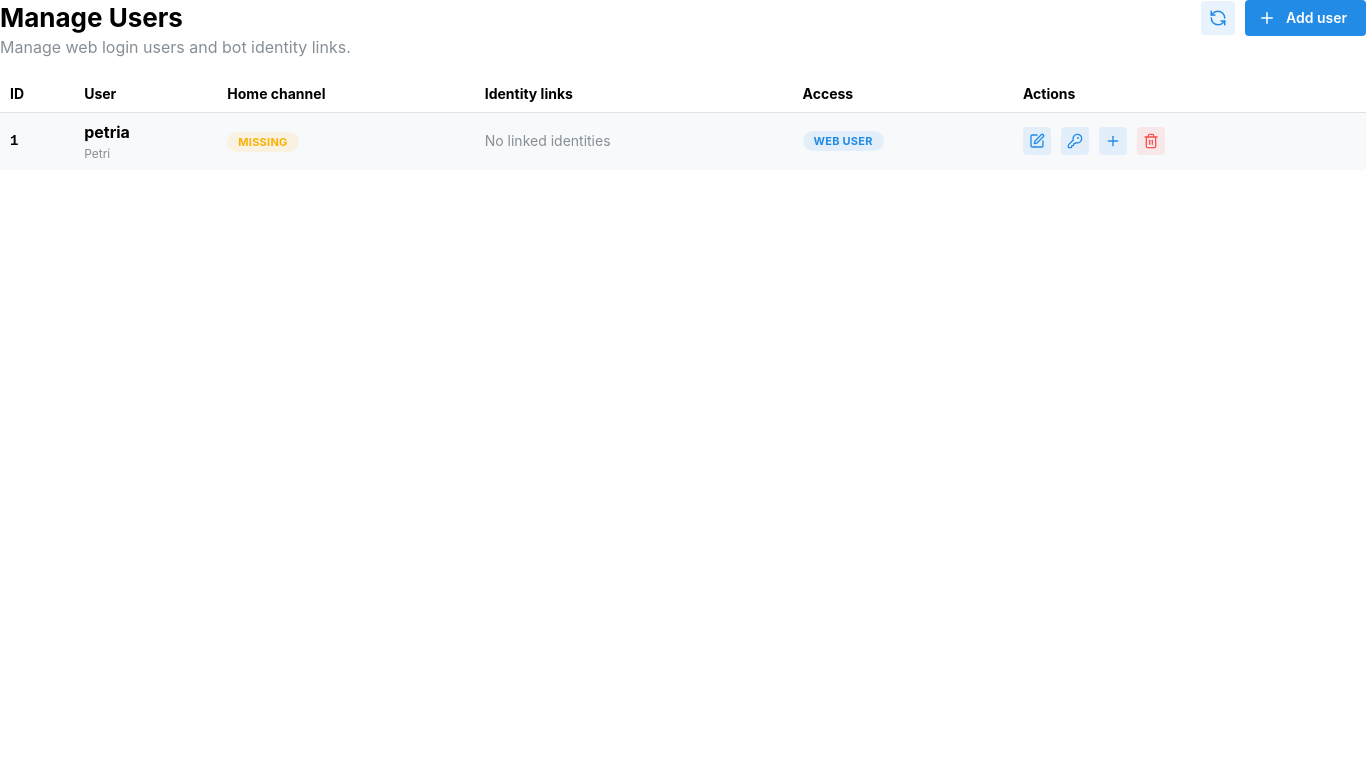
AdminUsersPage › lists users and opens the create-user form
The width and height of the screenshot is (1366, 768).
Expected: the heading "Manage Users" is shown, [0,2,183,33]
Expected: the text "petria" is shown, [84,120,130,144]
Step 1. Click the button "Add user" → click(1305, 18), box [1245,0,1365,36]
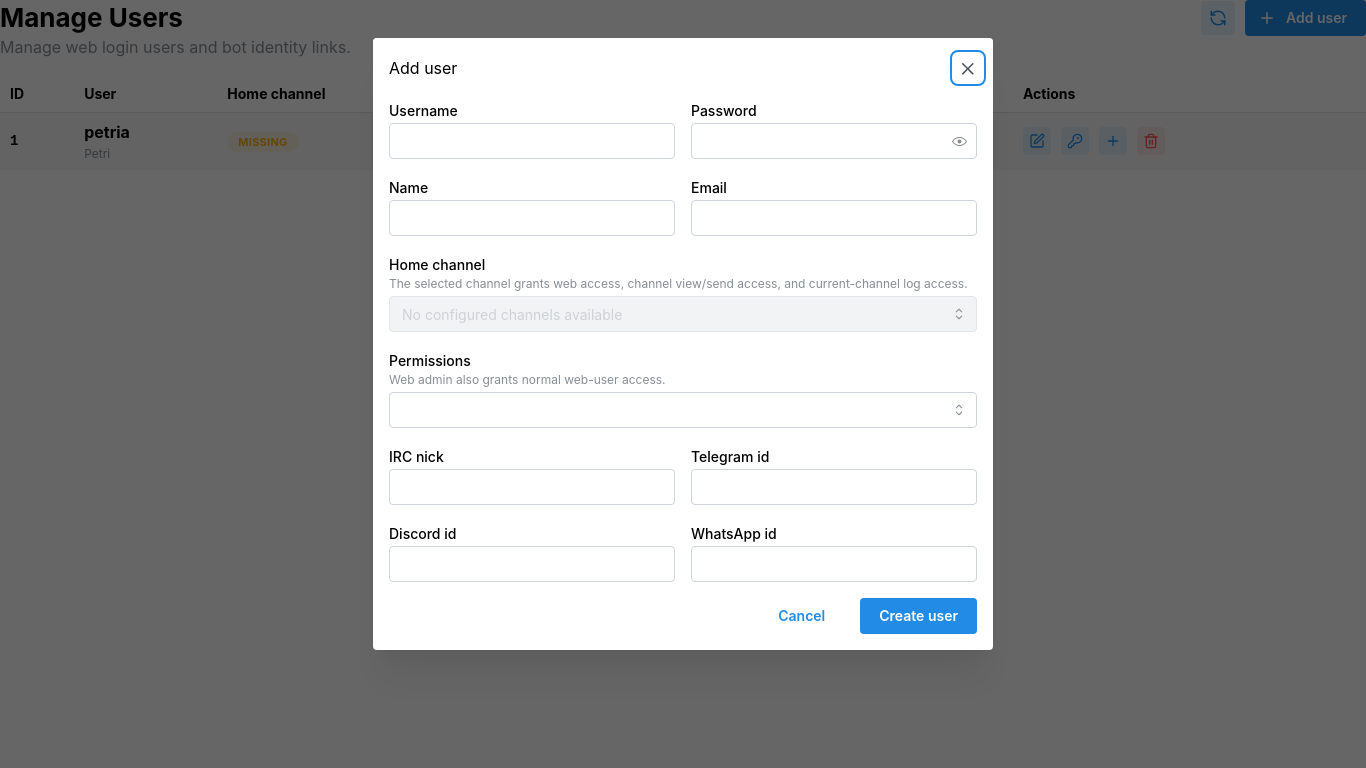
Result: the dialog is shown at [373,38,993,650]
Result: the field labelled "Username" is shown at [389,123,675,159]
